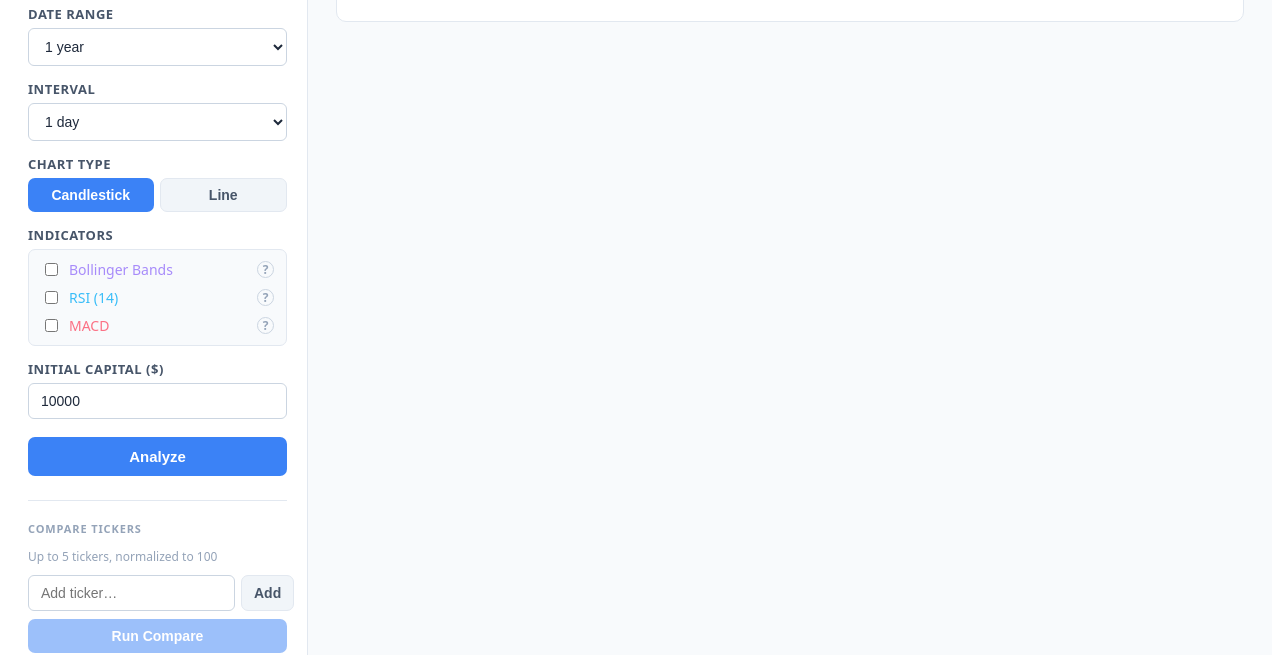
Stock Dashboard Test Suite › adds compare ticker
(page scrolled)
Type "AAPL" into the field with placeholder "Add ticker…".
click(132, 593); type("AAPL")  # box x1=28 y1=575 x2=235 y2=611
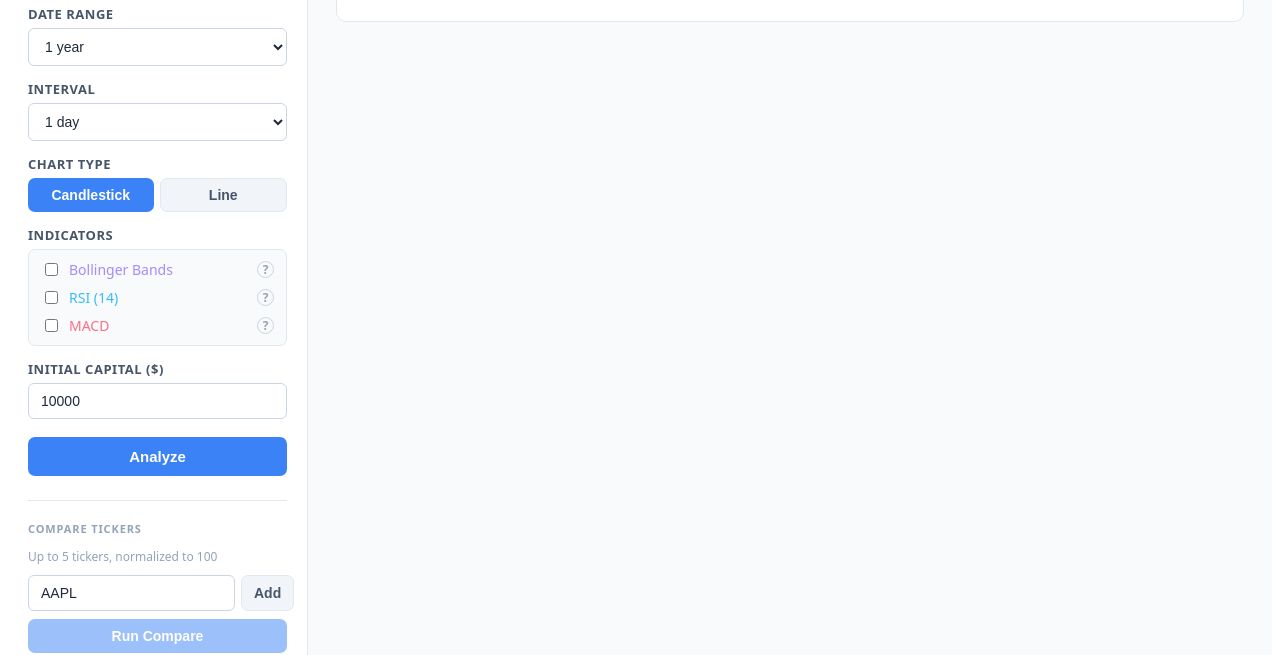
Click the button "Add".
click(268, 593)  # box x1=241 y1=575 x2=294 y2=611
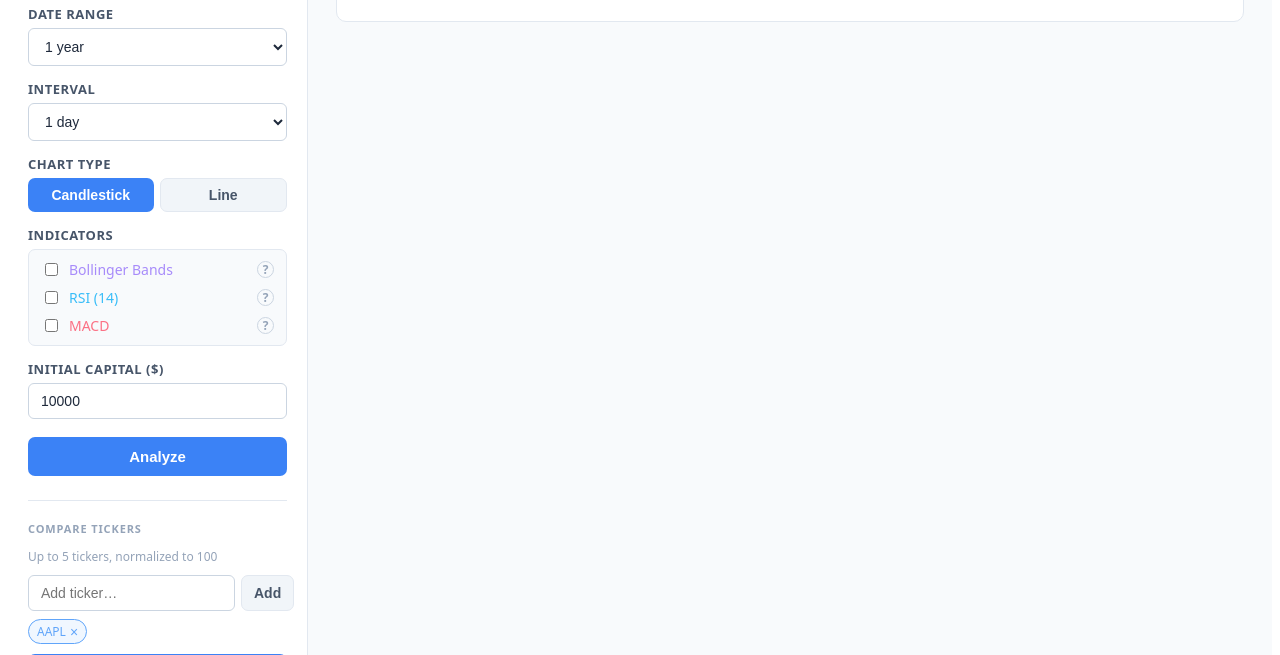
Now the text "AAPL" is shown, box x1=37 y1=623 x2=66 y2=640
